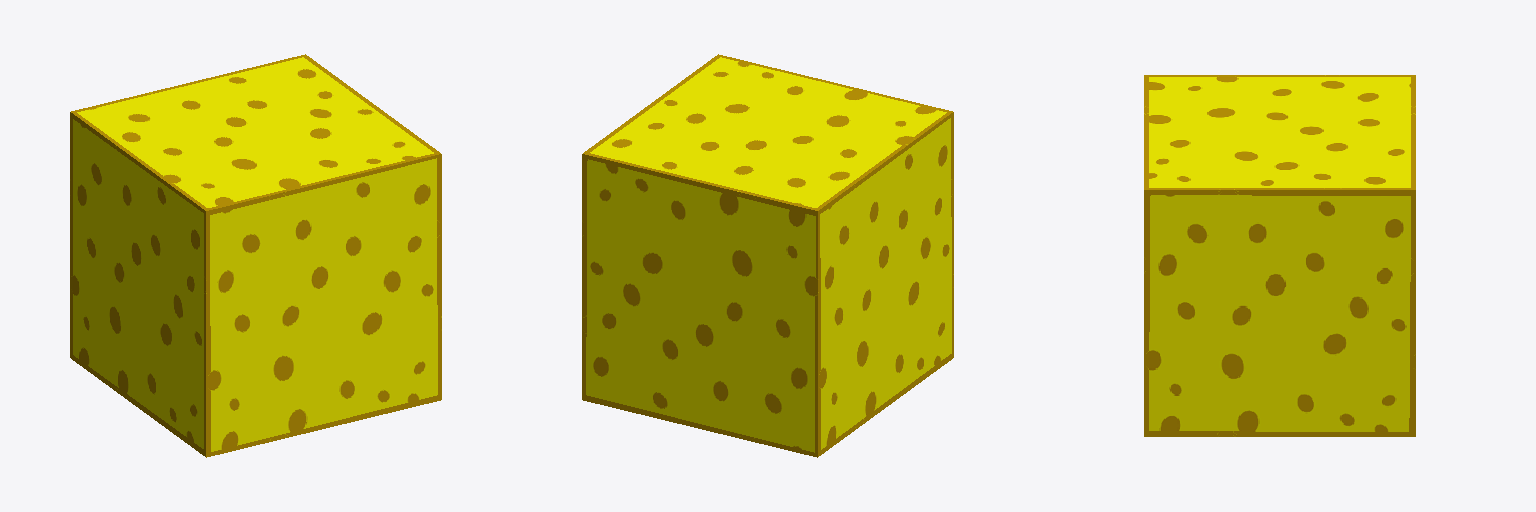
The picture shows the model from 3 angles: view 1: azimuth 30°, elevation 25°; view 2: azimuth 150°, elevation 25°; view 3: azimuth 270°, elevation 25°; orthographic projection.
Parts seen in each view (by area): view 1: Cube.025; view 2: Cube.025; view 3: Cube.025.
Boxes of the visible parts, <box> form: Cube.025: <box>70,54,441,457</box>; Cube.025: <box>582,54,953,457</box>; Cube.025: <box>1144,75,1415,436</box>.
Bounding box in the file's own units: 0.9646 × 0.9646 × 0.9646.
Materials: 2 (2 with a texture image).